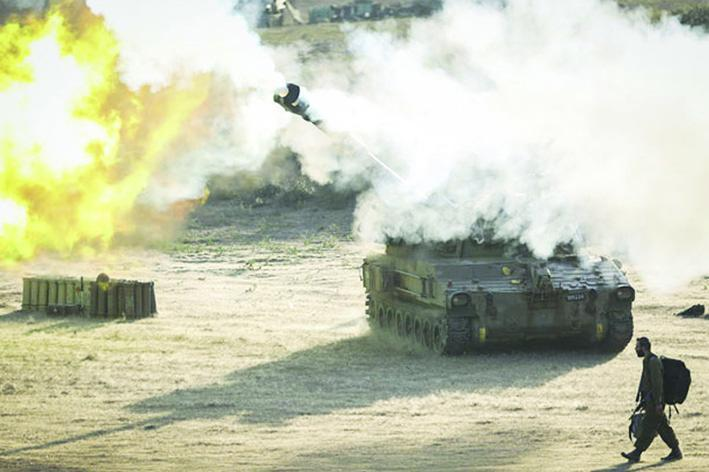sau: (272, 78, 638, 359)
